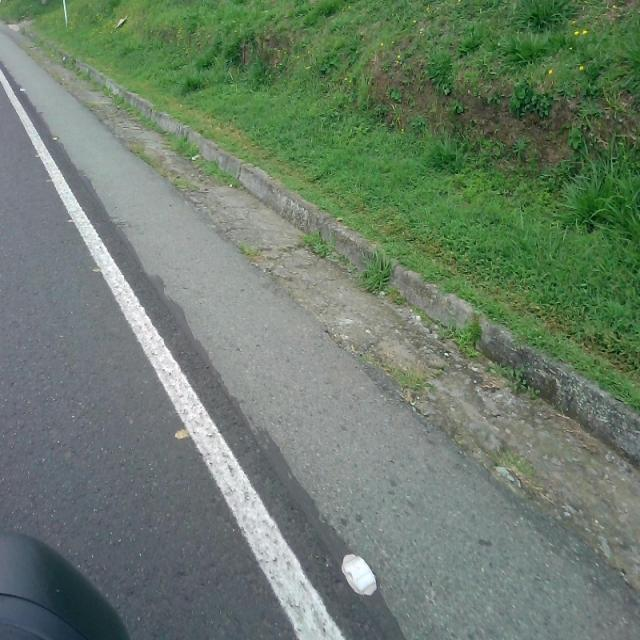DITCH: (1, 7, 638, 638), (1, 18, 638, 638)
